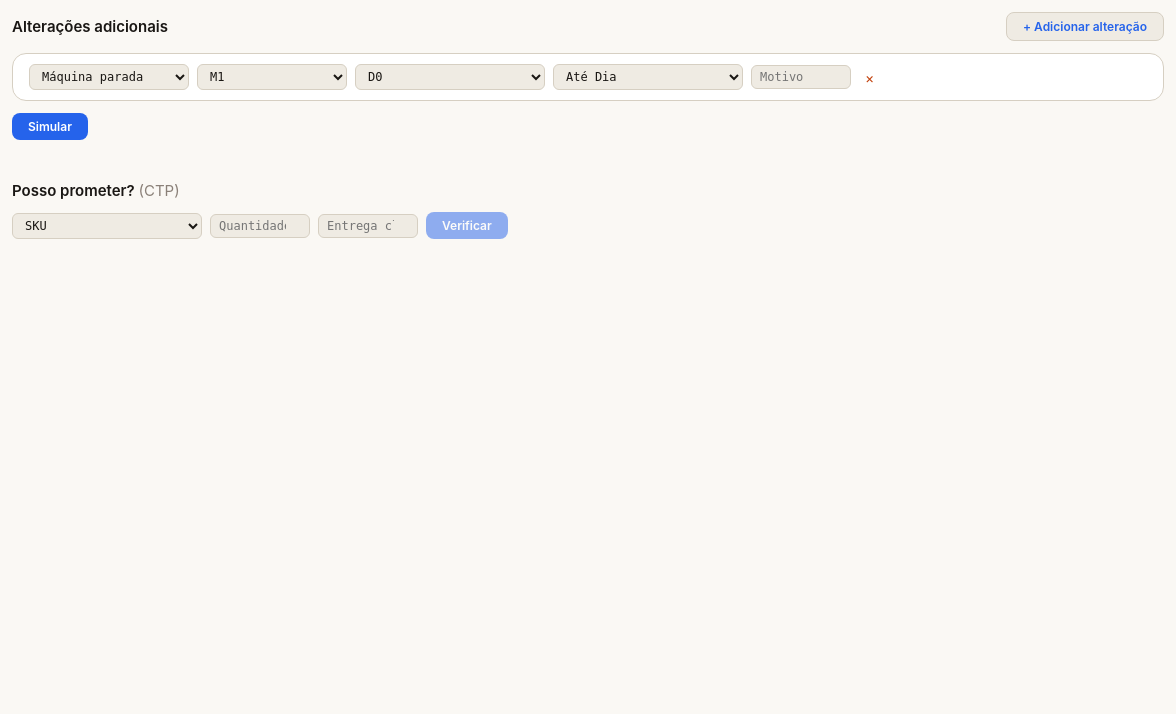
Test: clears a previously verified simulation when a recheck fails
This screenshot has width=1176, height=714.
Click the button "Simular".
click(50, 126)  # box [12,113,88,140]
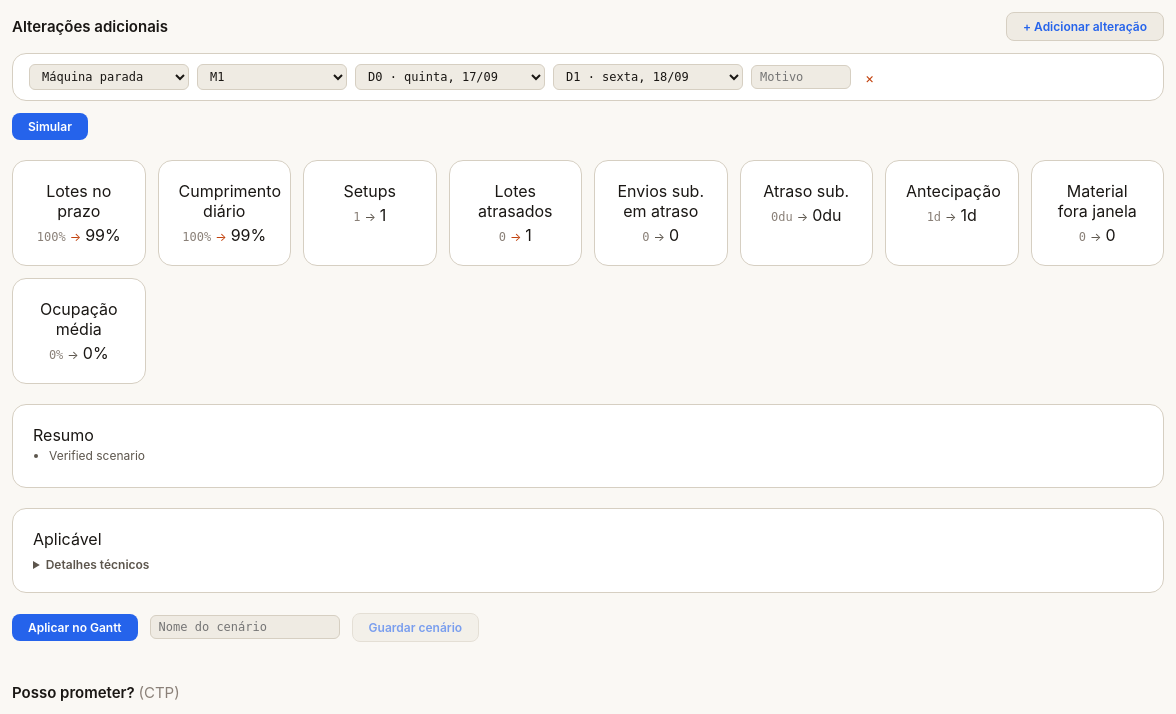
Click the button "Simular".
click(50, 126)  # box [12,113,88,140]
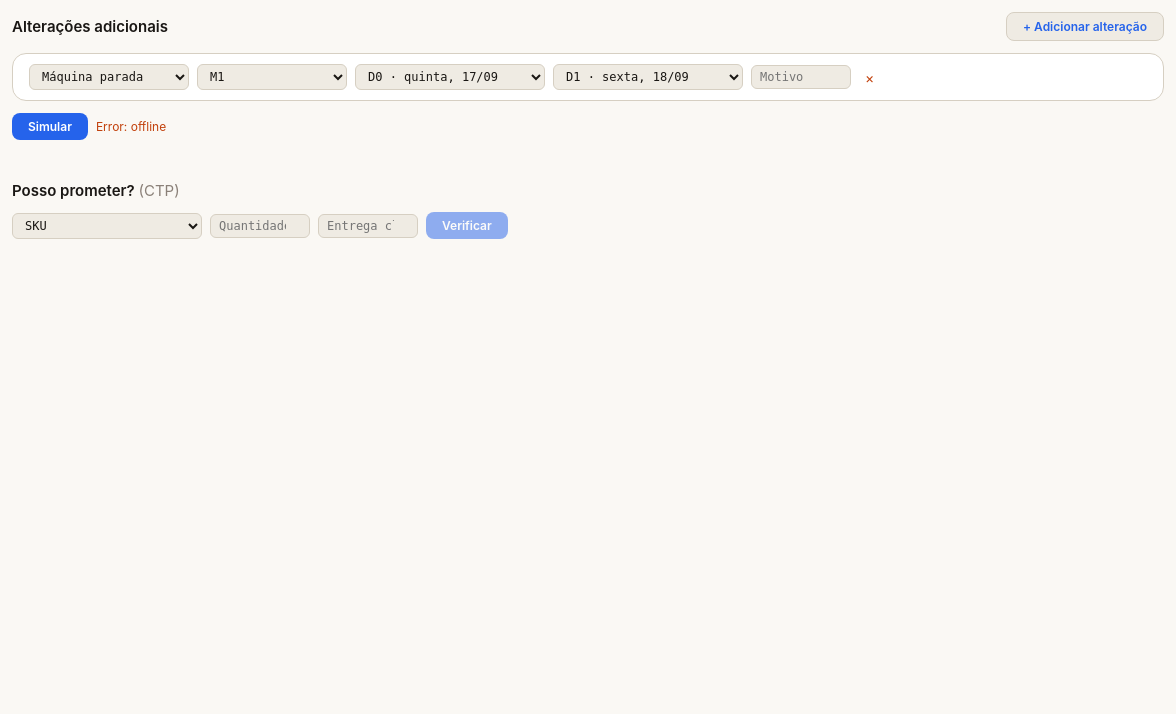
Expected: the text "Error: offline" is shown, [96,119,166,134]
Expected: the button "Aplicar no Gantt" is gone
